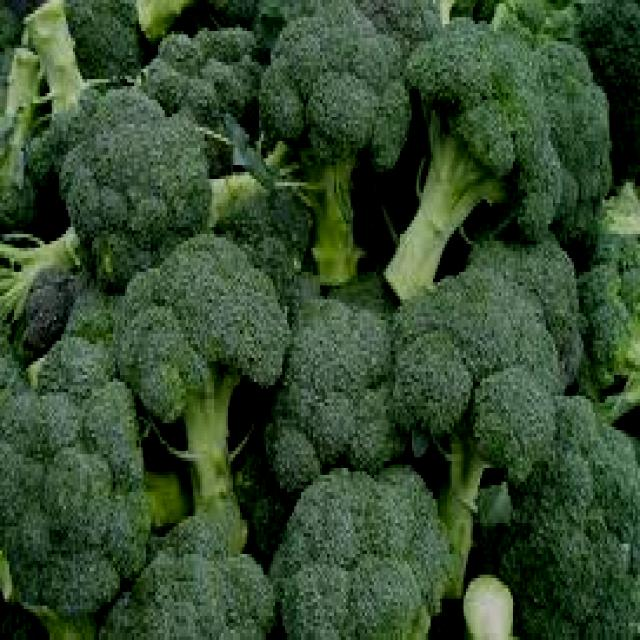broccoli: (0, 3, 631, 640)
